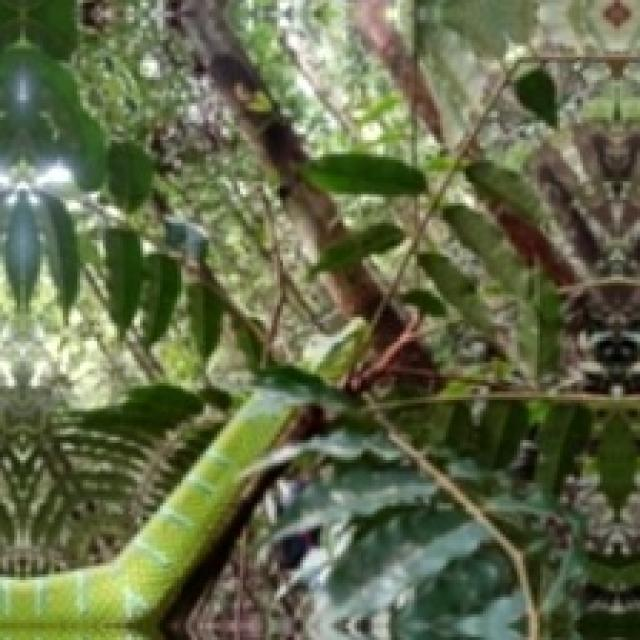north ph temple pitviper: (0, 389, 303, 637)
